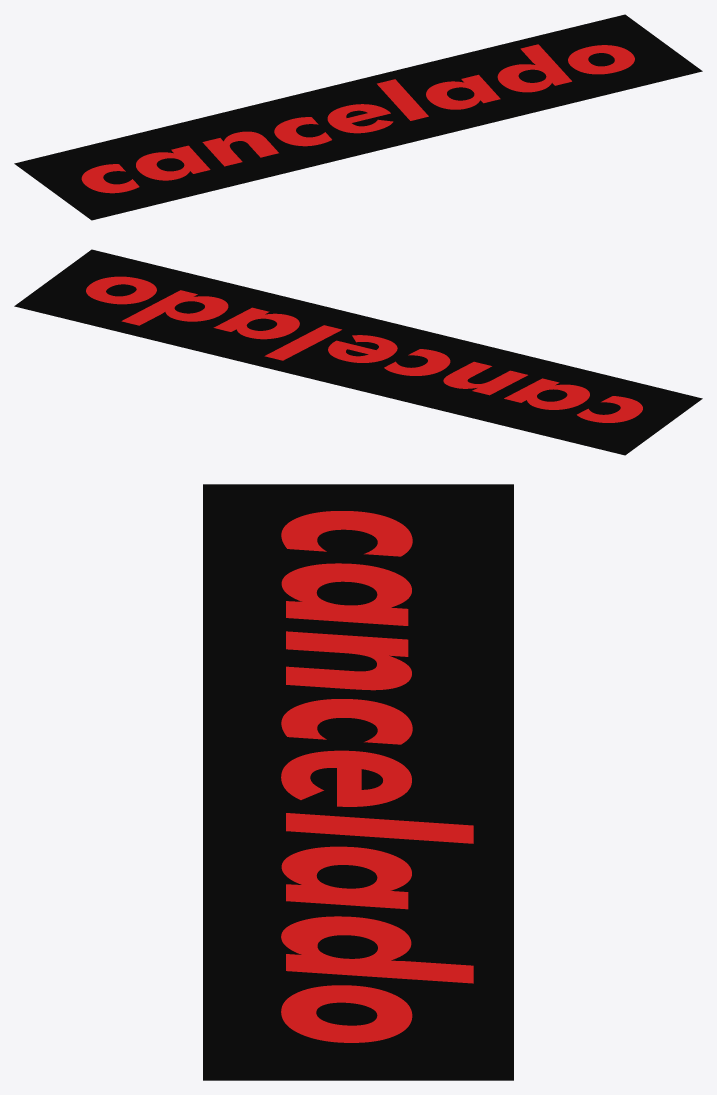
Rendered from cancelado.fbx.
The picture shows the model from 3 angles, top to bottom: view 1: azimuth 30°, elevation 25°; view 2: azimuth 150°, elevation 25°; view 3: azimuth 270°, elevation 25°; orthographic projection. The views are drawn at different scales.
Parts seen in each view (by area): view 1: Plane, cancelado; view 2: Plane, cancelado; view 3: Plane, cancelado.
Part boxes in pixels (x1,y1,x2,y2): Plane: [14, 14, 702, 220]; cancelado: [81, 44, 634, 193]; Plane: [14, 249, 702, 455]; cancelado: [86, 276, 642, 422]; Plane: [203, 484, 513, 1080]; cancelado: [281, 511, 473, 1042].
Size of the model in its own units: 707 by 1.47 by 156.
